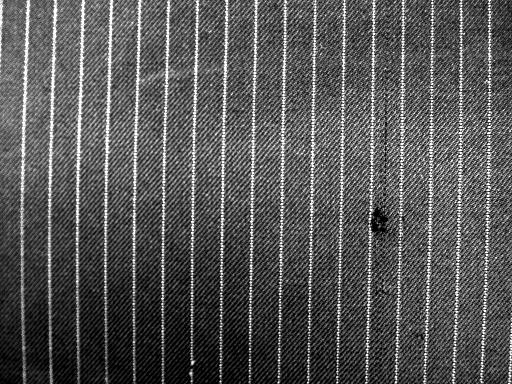fabric_hole: (347, 195, 402, 243)
